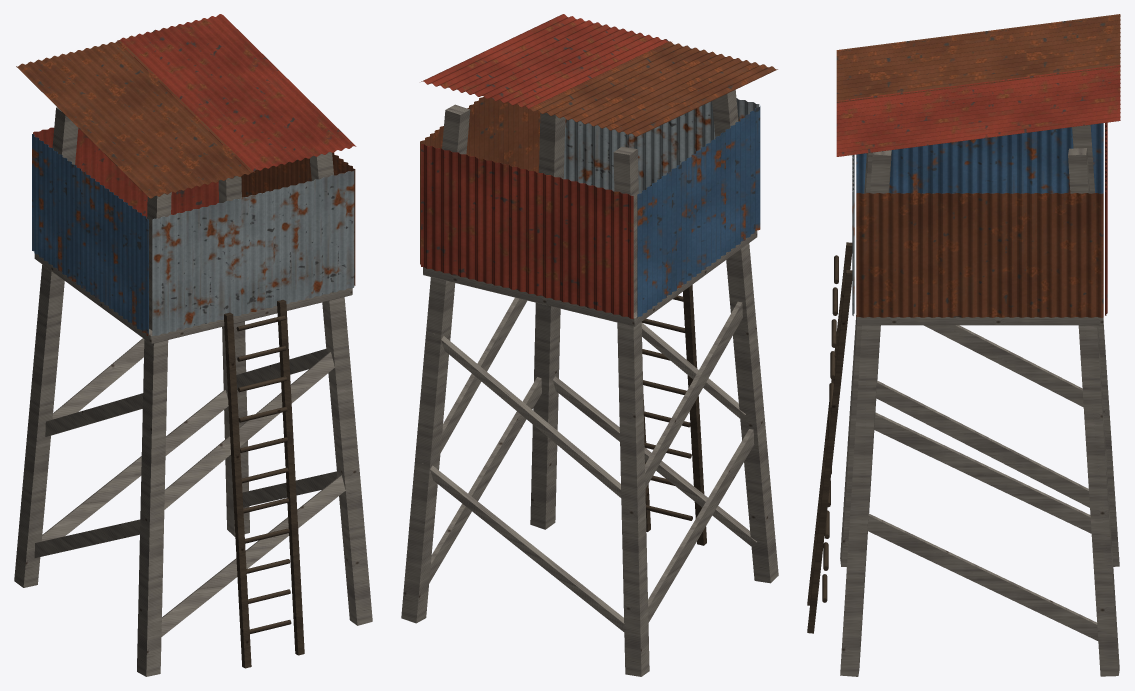
Rendered from watchtower.glb.
3 views of the same model, side by side, from view 1: azimuth 30°, elevation 25°; view 2: azimuth 150°, elevation 25°; view 3: azimuth 270°, elevation 25° (orthographic). The views are drawn at different scales.
Parts seen in each view (by area): view 1: Scrap_Watchtower; view 2: Scrap_Watchtower; view 3: Scrap_Watchtower.
Part boxes in pixels (x1=…): Scrap_Watchtower: x1=14, y1=14, x2=372, y2=676; Scrap_Watchtower: x1=401, y1=14, x2=778, y2=676; Scrap_Watchtower: x1=807, y1=14, x2=1120, y2=676.
Bounding box in the file's own units: 2.15 × 4.66 × 2.4.
Materials: 6 (6 with a texture image).
